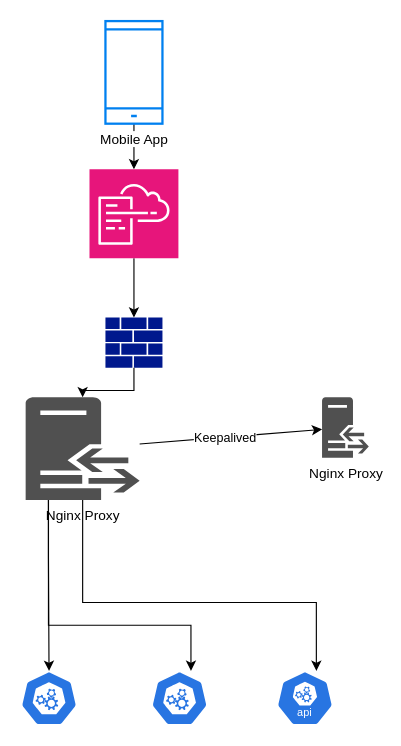
The diagram is 401 pixels wide and 746 high, and some of its shapes have lost their labels. The centre of each missing label's shape, as x and y in pixels:
"Firewall" goes at (133,342).
"WAF (CloudFlare)" goes at (133,213).
